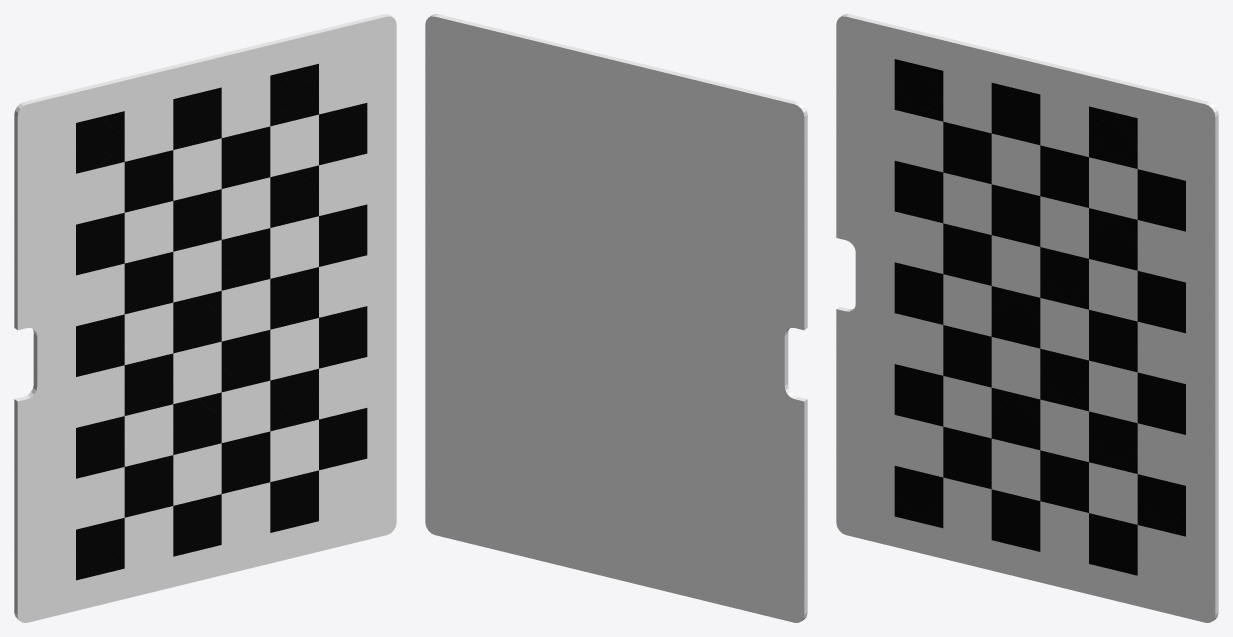
File: checkerboard_waist.dae
3 views of the same model, side by side, from view 1: azimuth 30°, elevation 25°; view 2: azimuth 150°, elevation 25°; view 3: azimuth 330°, elevation 25° (orthographic).
Parts seen in each view (by area): view 1: node; view 2: node; view 3: node.
Boxes of the visible parts, box(x1,y1,x2,y2) form: node: box(14, 14, 396, 622); node: box(425, 14, 807, 622); node: box(836, 14, 1218, 622).
Size of the model in its own units: 0.195 by 0.255 by 0.003.
Materials: 1 (1 with a texture image).
